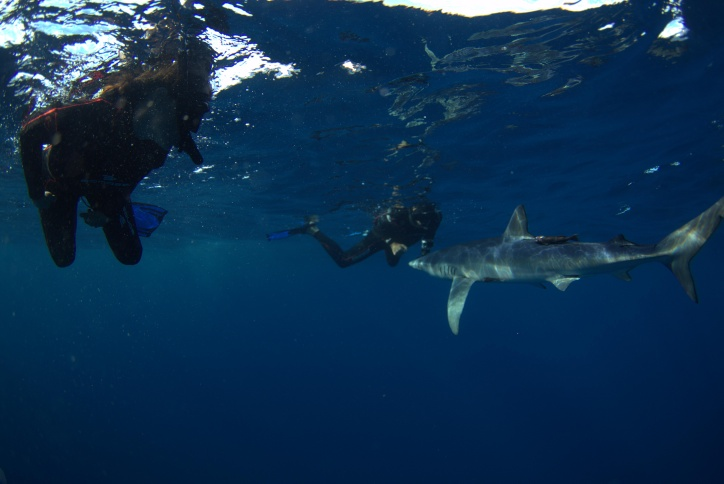Azul: (392, 193, 724, 354)
